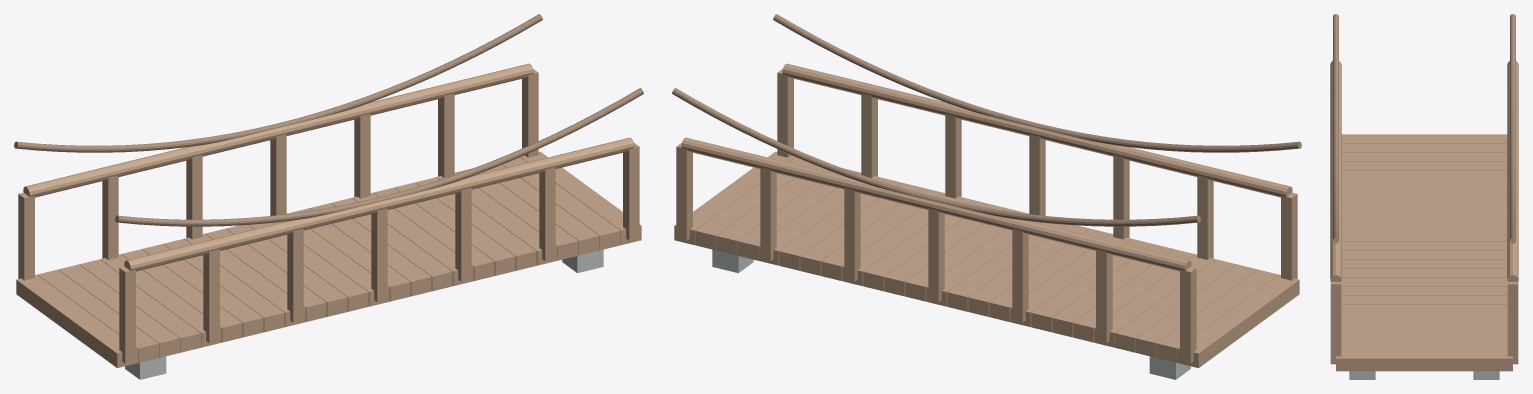
The model's file is rope_bridge.glb.
3 views of the same model, side by side, from view 1: azimuth 30°, elevation 25°; view 2: azimuth 150°, elevation 25°; view 3: azimuth 270°, elevation 25° (orthographic). The views are drawn at different scales.
Visible parts, largest first — view 1: rope_bridge_000, rope_bridge_003, rope_bridge_009, rope_bridge_006, rope_bridge_031, rope_bridge_034, rope_bridge_017, rope_bridge_023, rope_bridge_020, rope_bridge_059, rope_bridge_079, rope_bridge_051 (+29 smaller); view 2: rope_bridge_000, rope_bridge_003, rope_bridge_009, rope_bridge_006, rope_bridge_031, rope_bridge_034, rope_bridge_017, rope_bridge_023, rope_bridge_020, rope_bridge_059, rope_bridge_079, rope_bridge_051 (+29 smaller); view 3: rope_bridge_082, rope_bridge_068, rope_bridge_073, rope_bridge_076, rope_bridge_079, rope_bridge_000, rope_bridge_003, rope_bridge_006, rope_bridge_009, rope_bridge_012, rope_bridge_017, rope_bridge_020 (+19 smaller).
Part boxes in pixels (x1,y1,x2,y2): rope_bridge_000: [16, 274, 137, 367]; rope_bridge_003: [37, 269, 158, 362]; rope_bridge_009: [79, 259, 200, 352]; rope_bridge_006: [58, 264, 179, 357]; rope_bridge_031: [205, 228, 326, 321]; rope_bridge_034: [226, 225, 347, 316]; rope_bridge_017: [121, 249, 242, 342]; rope_bridge_023: [163, 239, 284, 332]; rope_bridge_020: [142, 244, 263, 337]; rope_bridge_059: [373, 187, 494, 280]; rope_bridge_079: [502, 157, 620, 250]; rope_bridge_051: [331, 198, 452, 291]; rope_bridge_000: [1178, 274, 1299, 367]; rope_bridge_003: [1157, 269, 1278, 362]; rope_bridge_009: [1115, 259, 1236, 352]; rope_bridge_006: [1136, 264, 1257, 357]; rope_bridge_031: [989, 228, 1110, 321]; rope_bridge_034: [968, 225, 1089, 316]; rope_bridge_017: [1073, 249, 1194, 342]; rope_bridge_023: [1031, 239, 1152, 332]; rope_bridge_020: [1052, 244, 1173, 337]; rope_bridge_059: [821, 187, 942, 280]; rope_bridge_079: [695, 157, 813, 250]; rope_bridge_051: [863, 198, 984, 291]; rope_bridge_082: [1336, 349, 1512, 371]; rope_bridge_068: [1341, 313, 1507, 322]; rope_bridge_073: [1341, 322, 1507, 331]; rope_bridge_076: [1341, 331, 1507, 340]; rope_bridge_079: [1341, 340, 1507, 349]; rope_bridge_000: [1341, 134, 1507, 143]; rope_bridge_003: [1341, 143, 1507, 152]; rope_bridge_006: [1341, 152, 1507, 161]; rope_bridge_009: [1341, 161, 1507, 170]; rope_bridge_012: [1341, 170, 1507, 178]; rope_bridge_017: [1341, 179, 1507, 187]; rope_bridge_020: [1341, 188, 1507, 196].
Size of the model in its own units: 6.02 by 1.93 by 2.13.
